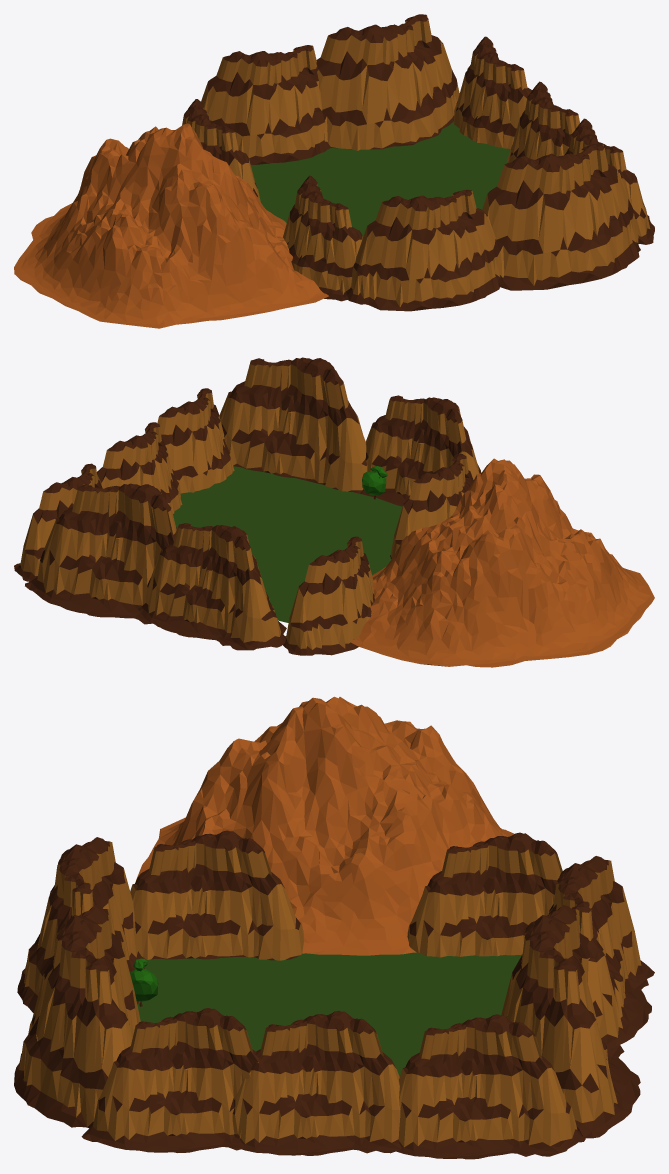
The model's file is Stage.fbx.
3 views of the same model, one above another, from view 1: azimuth 30°, elevation 25°; view 2: azimuth 150°, elevation 25°; view 3: azimuth 270°, elevation 25° (orthographic). The views are drawn at different scales.
Parts seen in each view (by area): view 1: Mounting_1, Mounting_3__1_, Mounting_3__4_, Mounting_3, Terrain_2, Mounting_3__5_, Mounting_3__2_, Mounting_3__6_, Mounting_3__8_, Mounting_3__3_, Mounting_3__7_; view 2: Mounting_1, Terrain_2, Mounting_3__1_, Mounting_3__4_, Mounting_3__5_, Mounting_3, Mounting_3__3_, Mounting_3__7_, Mounting_3__8_, Mounting_3__2_, Mounting_3__6_, Bush_3; view 3: Mounting_1, Terrain_2, Mounting_3__6_, Mounting_3__8_, Mounting_3__7_, Mounting_3__1_, Mounting_3__2_, Mounting_3__4_, Mounting_3__3_, Mounting_3__5_, Mounting_3, Bush_3.
Boxes of the visible parts, <box> form: Mounting_1: <box>14,123,328,328</box>; Mounting_3__1_: <box>482,143,640,290</box>; Mounting_3__4_: <box>316,14,459,150</box>; Mounting_3: <box>343,189,503,311</box>; Terrain_2: <box>250,121,510,237</box>; Mounting_3__5_: <box>201,45,330,164</box>; Mounting_3__2_: <box>283,175,362,301</box>; Mounting_3__6_: <box>454,36,531,149</box>; Mounting_3__8_: <box>506,81,579,162</box>; Mounting_3__3_: <box>182,99,260,201</box>; Mounting_3__7_: <box>565,118,654,244</box>; Mounting_1: <box>349,458,654,667</box>; Terrain_2: <box>173,466,402,622</box>; Mounting_3__1_: <box>219,357,367,493</box>; Mounting_3__4_: <box>25,483,176,627</box>; Mounting_3__5_: <box>137,523,286,650</box>; Mounting_3: <box>360,395,481,506</box>; Mounting_3__3_: <box>283,536,374,655</box>; Mounting_3__7_: <box>157,388,234,493</box>; Mounting_3__8_: <box>97,422,182,513</box>; Mounting_3__2_: <box>390,454,473,559</box>; Mounting_3__6_: <box>14,463,102,581</box>; Bush_3: <box>362,466,387,499</box>; Mounting_1: <box>136,696,514,955</box>; Terrain_2: <box>137,952,521,1076</box>; Mounting_3__6_: <box>396,1014,585,1159</box>; Mounting_3__8_: <box>232,1010,401,1155</box>; Mounting_3__7_: <box>81,1008,259,1152</box>; Mounting_3__1_: <box>14,905,140,1128</box>; Mounting_3__2_: <box>130,830,303,960</box>; Mounting_3__4_: <box>501,905,640,1138</box>; Mounting_3__3_: <box>407,832,562,957</box>; Mounting_3__5_: <box>548,856,654,1050</box>; Mounting_3: <box>17,837,145,1012</box>; Bush_3: <box>130,958,158,1006</box>.
Bounding box in the file's own units: 1244611 × 314341 × 941286.
